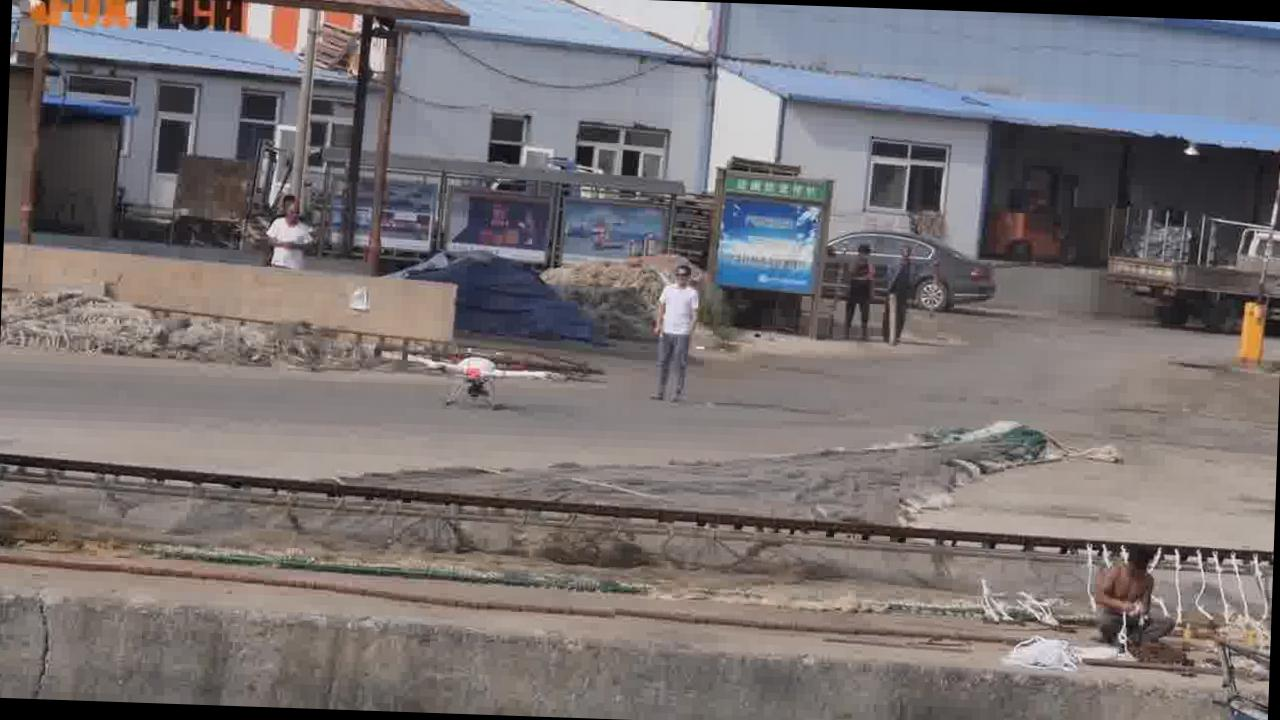drone: (388, 340, 568, 413)
